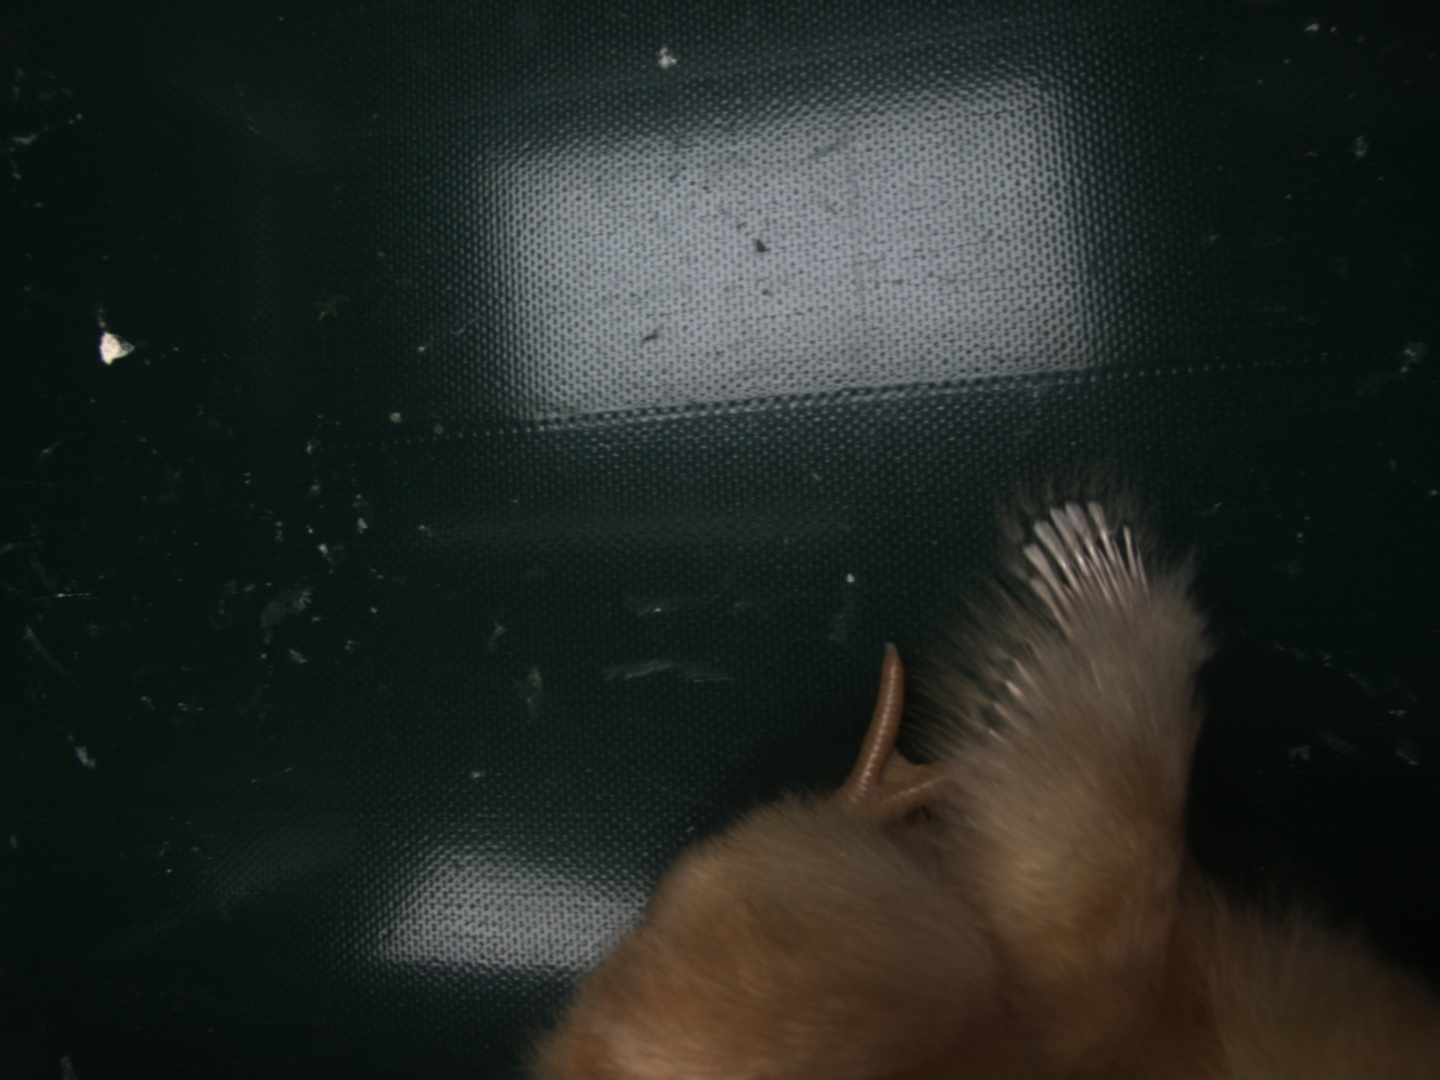female: (1018, 498, 1157, 639)
